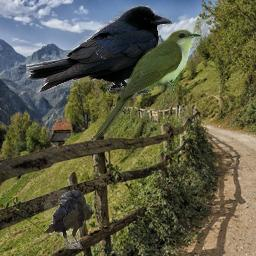Crow: (26, 5, 172, 94), (44, 190, 92, 249)
Cuckoo: (94, 29, 202, 141)
